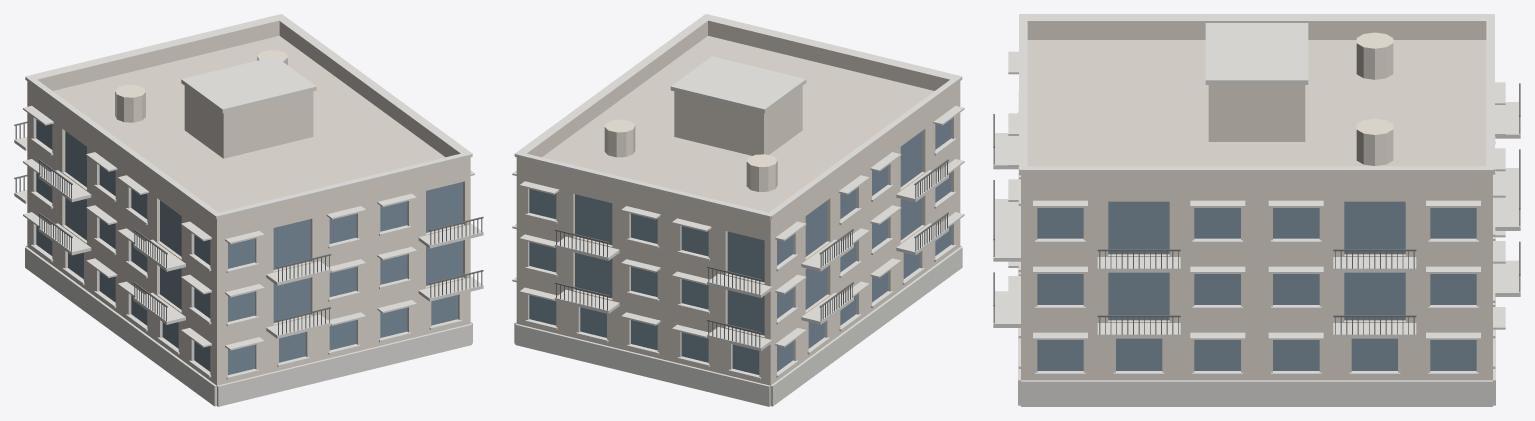
Rendered from Block_near_ATM.fbx.
3 renders of one model, left to right at view 1: azimuth 30°, elevation 25°; view 2: azimuth 150°, elevation 25°; view 3: azimuth 270°, elevation 25°, orthographic. The views are drawn at different scales.
Parts seen in each view (by area): view 1: Block_near_ATM; view 2: Block_near_ATM; view 3: Block_near_ATM.
Boxes of the visible parts, <box> form: Block_near_ATM: <box>14,14,483,406</box>; Block_near_ATM: <box>512,14,964,406</box>; Block_near_ATM: <box>993,14,1520,406</box>.
Bounding box in the file's own units: 19.6 × 14.25 × 24.6.
